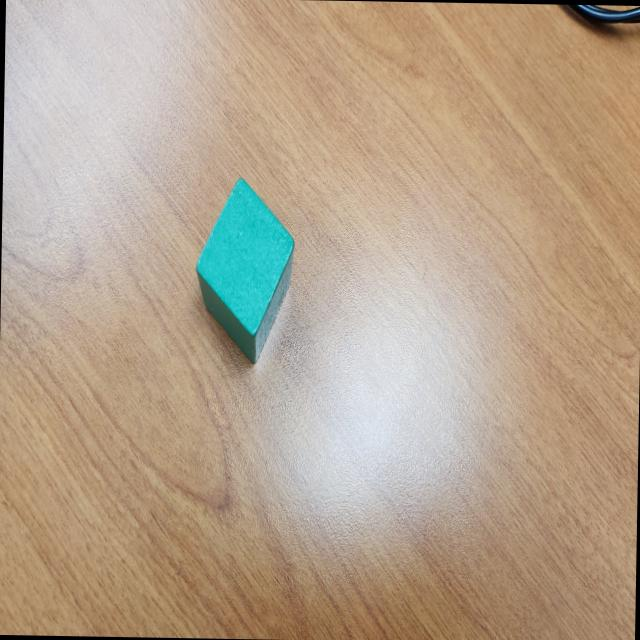green: (194, 176, 296, 362)
